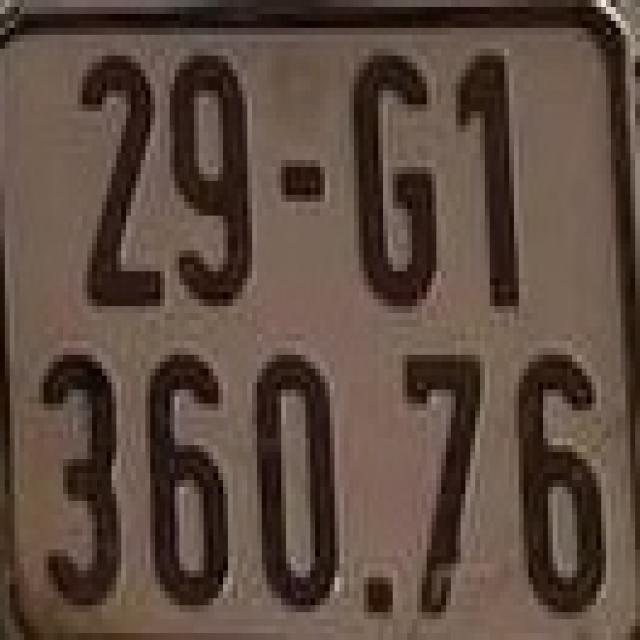0: (247, 340, 349, 612)
1: (451, 42, 543, 314)
2: (68, 42, 170, 314)
3: (34, 340, 126, 612)
6: (504, 340, 611, 620), (140, 340, 232, 612)
7: (392, 340, 490, 620)
9: (165, 42, 262, 314)
G: (339, 42, 446, 314)
